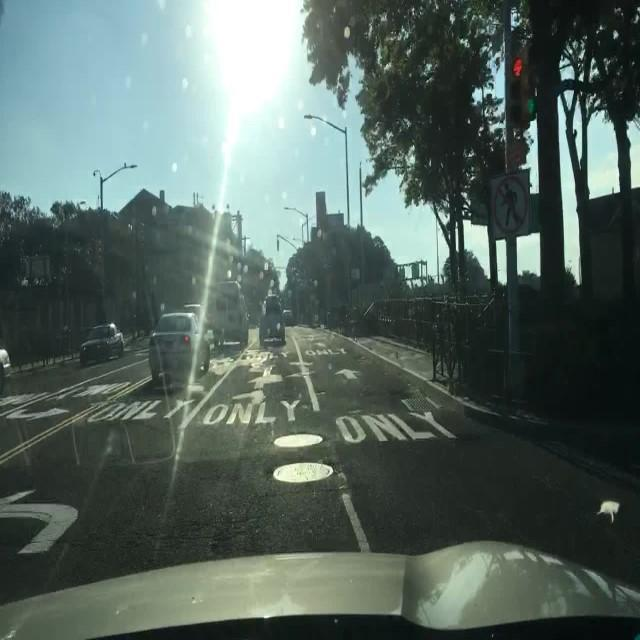normal: (150, 312, 212, 394), (81, 324, 128, 365)
